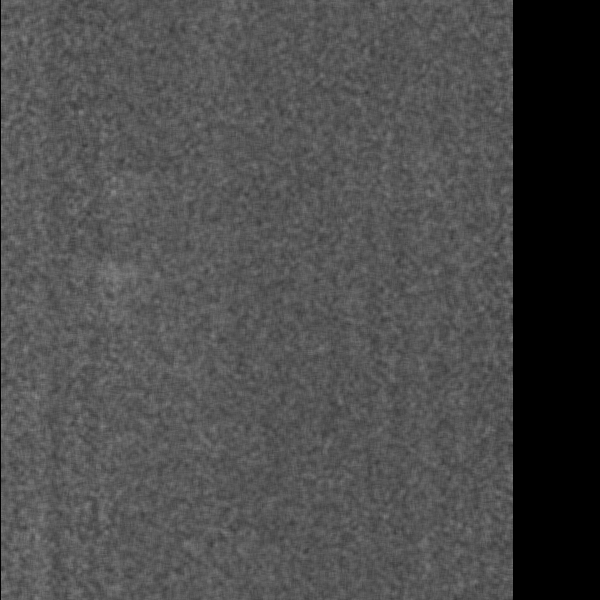spark: (100, 257, 131, 310)
